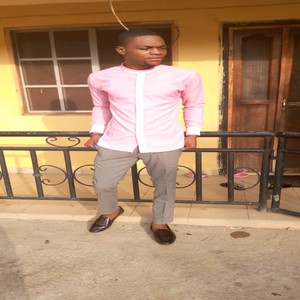Fulokoja_male_student: (91, 32, 188, 245)
